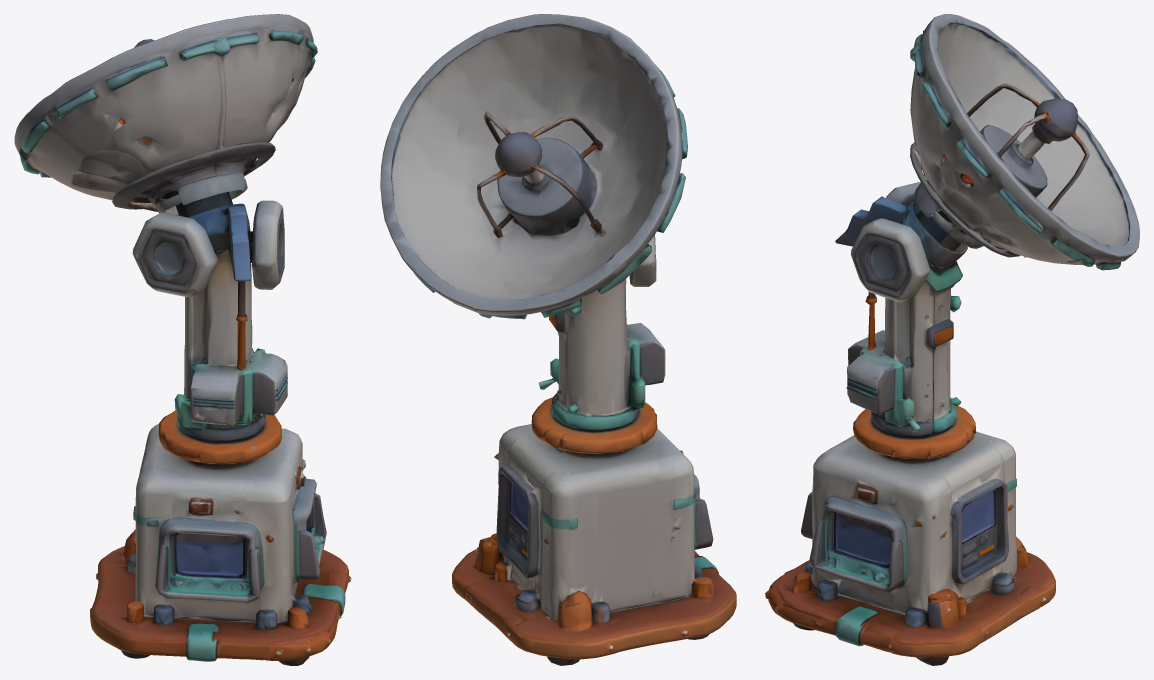
File: scanner.glb
3 renders of one model, left to right at view 1: azimuth 30°, elevation 25°; view 2: azimuth 150°, elevation 25°; view 3: azimuth 270°, elevation 25°, orthographic. The views are drawn at different scales.
Visible parts, largest first — view 1: tripo_node_c7b9454c-da0c-44ed-a0cd-e45071730db7; view 2: tripo_node_c7b9454c-da0c-44ed-a0cd-e45071730db7; view 3: tripo_node_c7b9454c-da0c-44ed-a0cd-e45071730db7.
Part boxes in pixels (x1,y1,x2,y2): tripo_node_c7b9454c-da0c-44ed-a0cd-e45071730db7: [14, 14, 351, 665]; tripo_node_c7b9454c-da0c-44ed-a0cd-e45071730db7: [380, 14, 736, 665]; tripo_node_c7b9454c-da0c-44ed-a0cd-e45071730db7: [765, 14, 1139, 665].
Bounding box in the file's own units: 0.4872 × 1 × 0.5818.
1 material, 1 textured.
